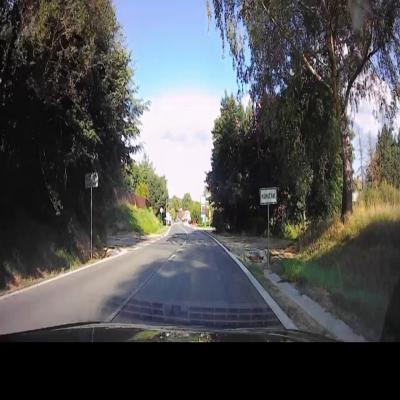clear-road: (0, 224, 266, 335)
